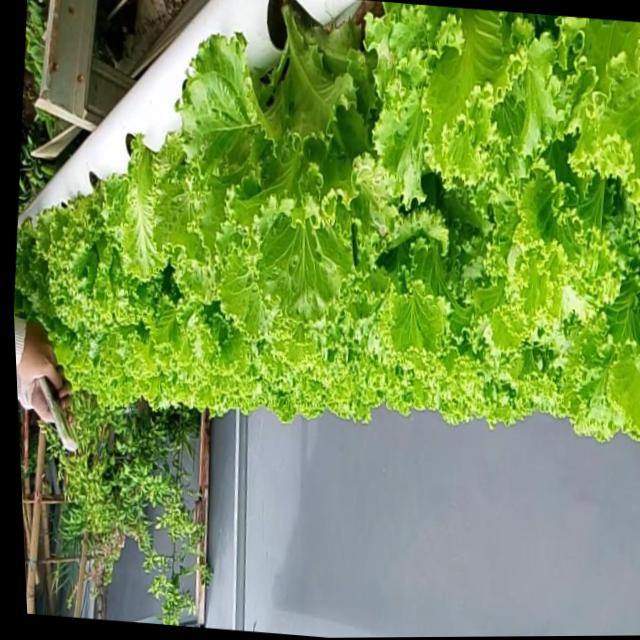Mature: (14, 1, 640, 443), (187, 14, 381, 311), (20, 153, 161, 364)
